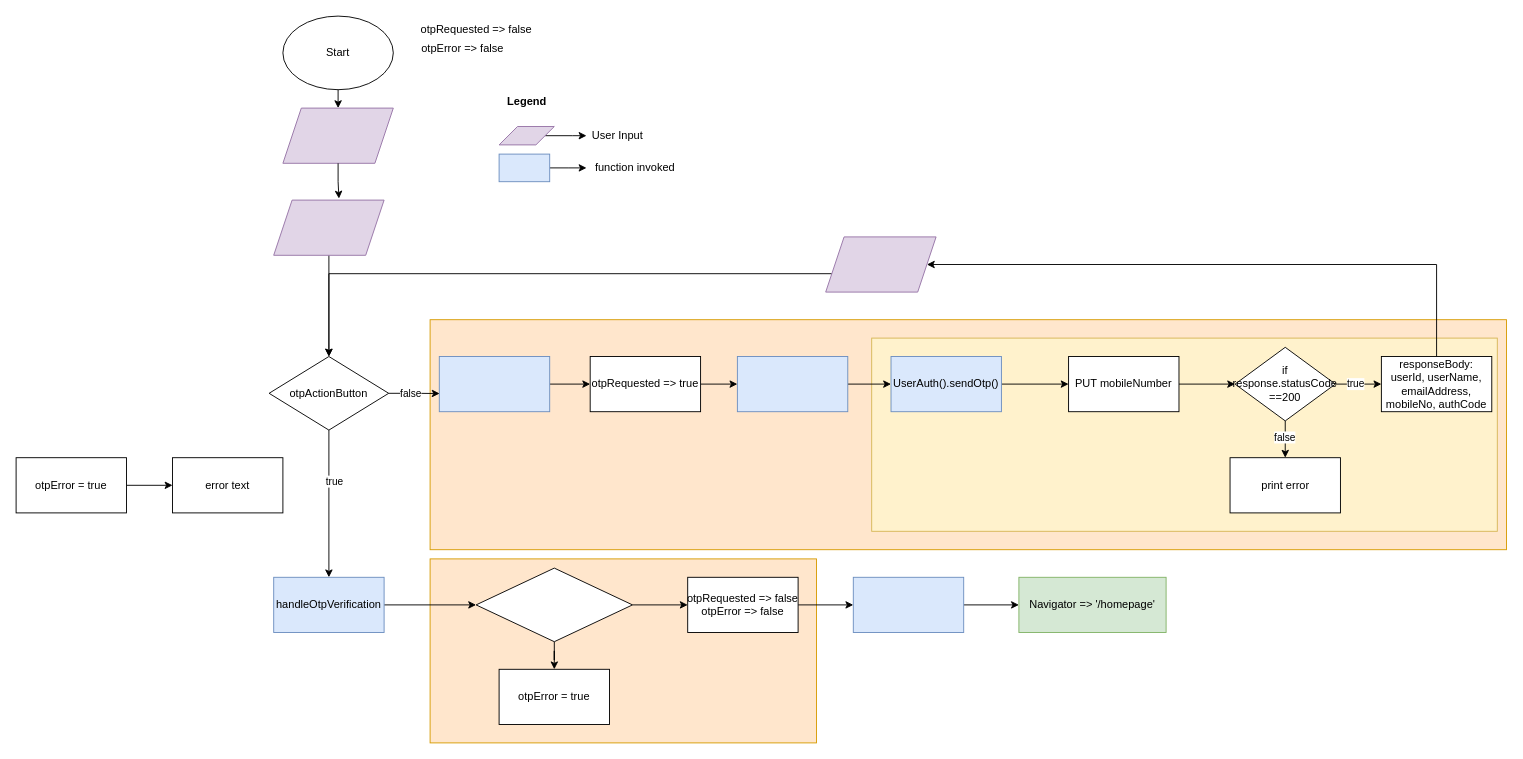
Image size: 1523x759. Some labels were removed from this diagram. Here are the shapes that lost their labels. From the top down, the box of each, then its label:
(282, 107, 393, 163): User Input phone number
(273, 199, 384, 255): User click on 'Get OTP' Button
(825, 236, 936, 292): user Enter OTP code
(438, 356, 550, 412): handleOtpRequest()
(736, 356, 848, 412): startTimer()
(475, 567, 632, 642): userInput == authCode
(852, 576, 964, 632): stopTimer()
